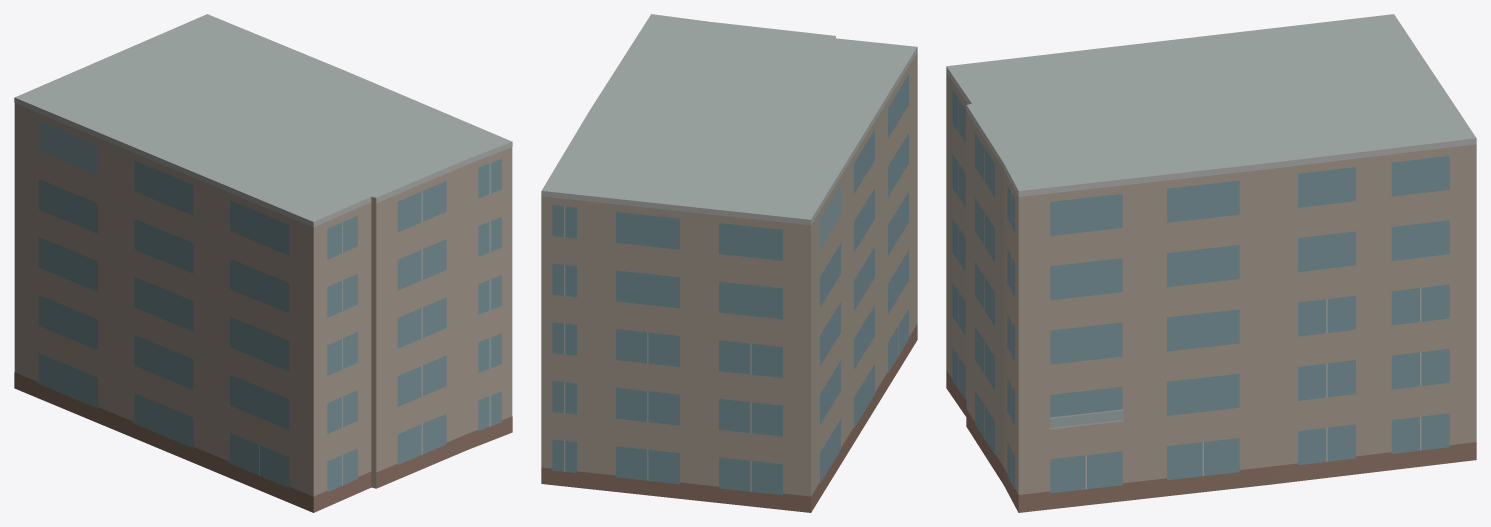
The model's file is survey-upis-32612393.glb.
3 views of the same model, side by side, from view 1: azimuth 30°, elevation 25°; view 2: azimuth 150°, elevation 25°; view 3: azimuth 270°, elevation 25° (orthographic). The views are drawn at different scales.
Parts seen in each view (by area): view 1: survey-upis-32612393.tmp; view 2: survey-upis-32612393.tmp; view 3: survey-upis-32612393.tmp.
Boxes of the visible parts, bbox=[...] form: survey-upis-32612393.tmp: bbox=[14, 14, 512, 512]; survey-upis-32612393.tmp: bbox=[541, 14, 917, 512]; survey-upis-32612393.tmp: bbox=[946, 14, 1476, 512].
Size of the model in its own units: 15.36 by 13 by 19.43.
